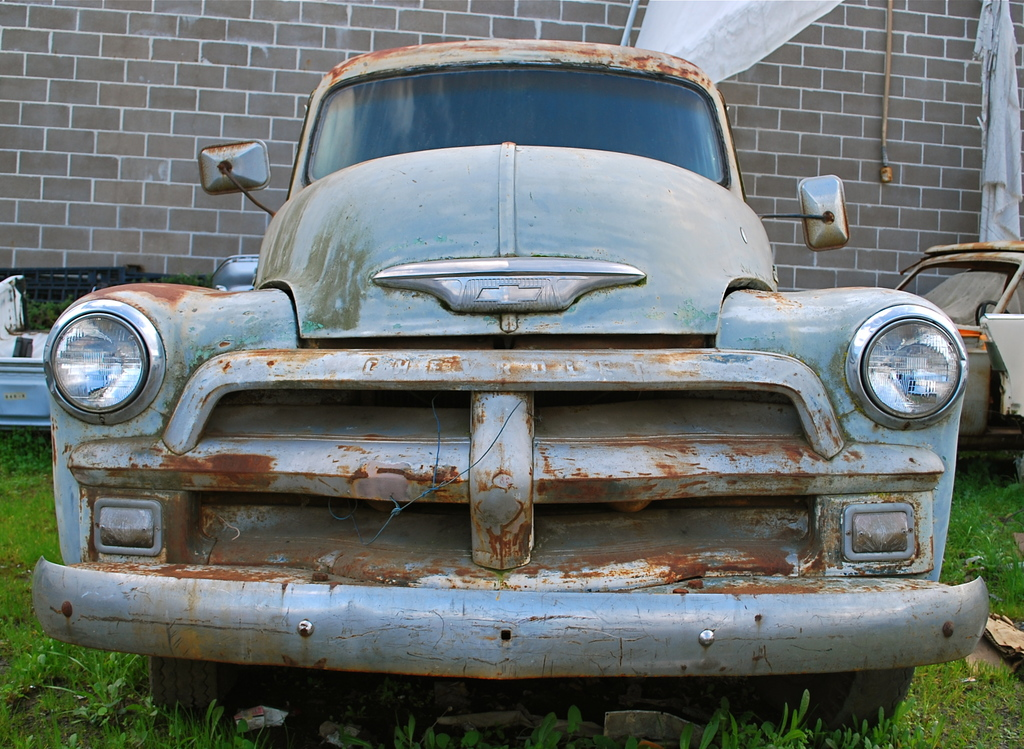Car: (23, 38, 988, 731)
